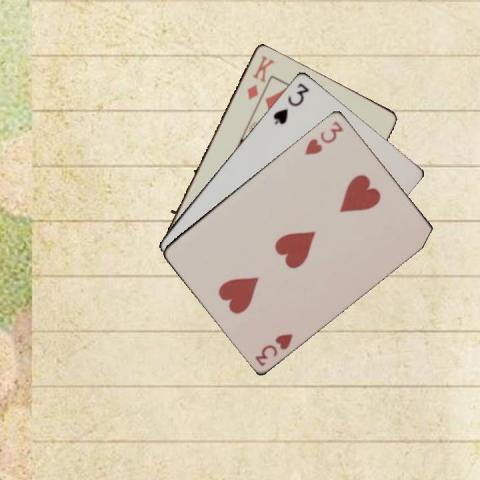3h: (301, 117, 345, 156), (251, 330, 295, 367)
3s: (270, 80, 310, 126)
Kd: (244, 52, 277, 101)
